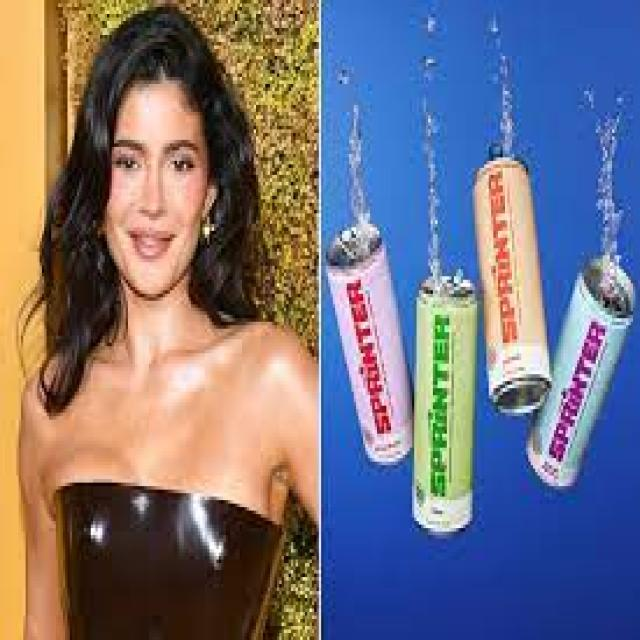Cans: (523, 241, 640, 500), (463, 136, 556, 416), (326, 217, 416, 472), (405, 272, 484, 538)
